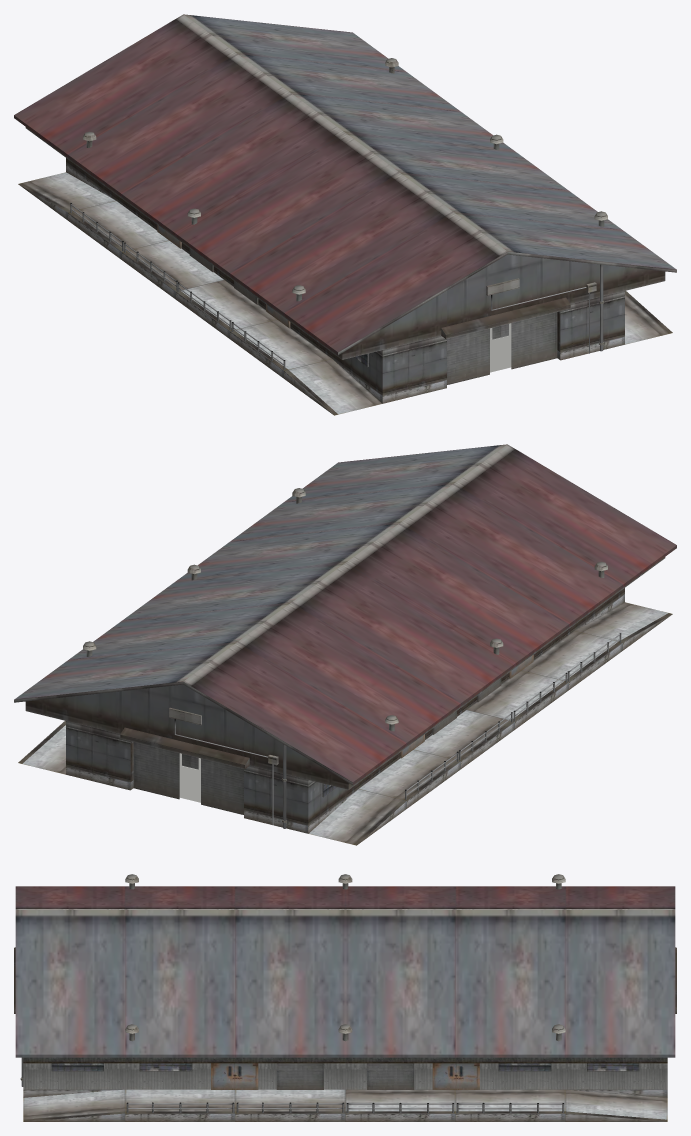
The model's file is ind-warehouse-5.access-v12.lod1.glb.
3 views of the same model, one above another, from view 1: azimuth 30°, elevation 25°; view 2: azimuth 150°, elevation 25°; view 3: azimuth 270°, elevation 25° (orthographic).
Parts seen in each view (by area): view 1: Industrial_Warehouse_5_Industrial_Walls_FLR_1_0, Industrial_Warehouse_5_Material #140_0, Walkable floors and stairs; view 2: Industrial_Warehouse_5_Industrial_Walls_FLR_1_0, Industrial_Warehouse_5_Material #140_0, Walkable floors and stairs; view 3: Industrial_Warehouse_5_Industrial_Walls_FLR_1_0, Industrial_Warehouse_5_Material #140_0.
Part boxes in pixels (x1,y1,x2,y2): Industrial_Warehouse_5_Industrial_Walls_FLR_1_0: (14, 14, 676, 395); Industrial_Warehouse_5_Material #140_0: (18, 164, 672, 415); Walkable floors and stairs: (490, 323, 511, 372); Industrial_Warehouse_5_Industrial_Walls_FLR_1_0: (14, 444, 676, 828); Industrial_Warehouse_5_Material #140_0: (18, 594, 672, 845); Walkable floors and stairs: (179, 753, 200, 802); Industrial_Warehouse_5_Industrial_Walls_FLR_1_0: (14, 874, 676, 1113); Industrial_Warehouse_5_Material #140_0: (23, 1063, 667, 1121).
Bounding box in the file's own units: 33 × 11.68 × 54.94.
Materials: 4 (2 with a texture image).
